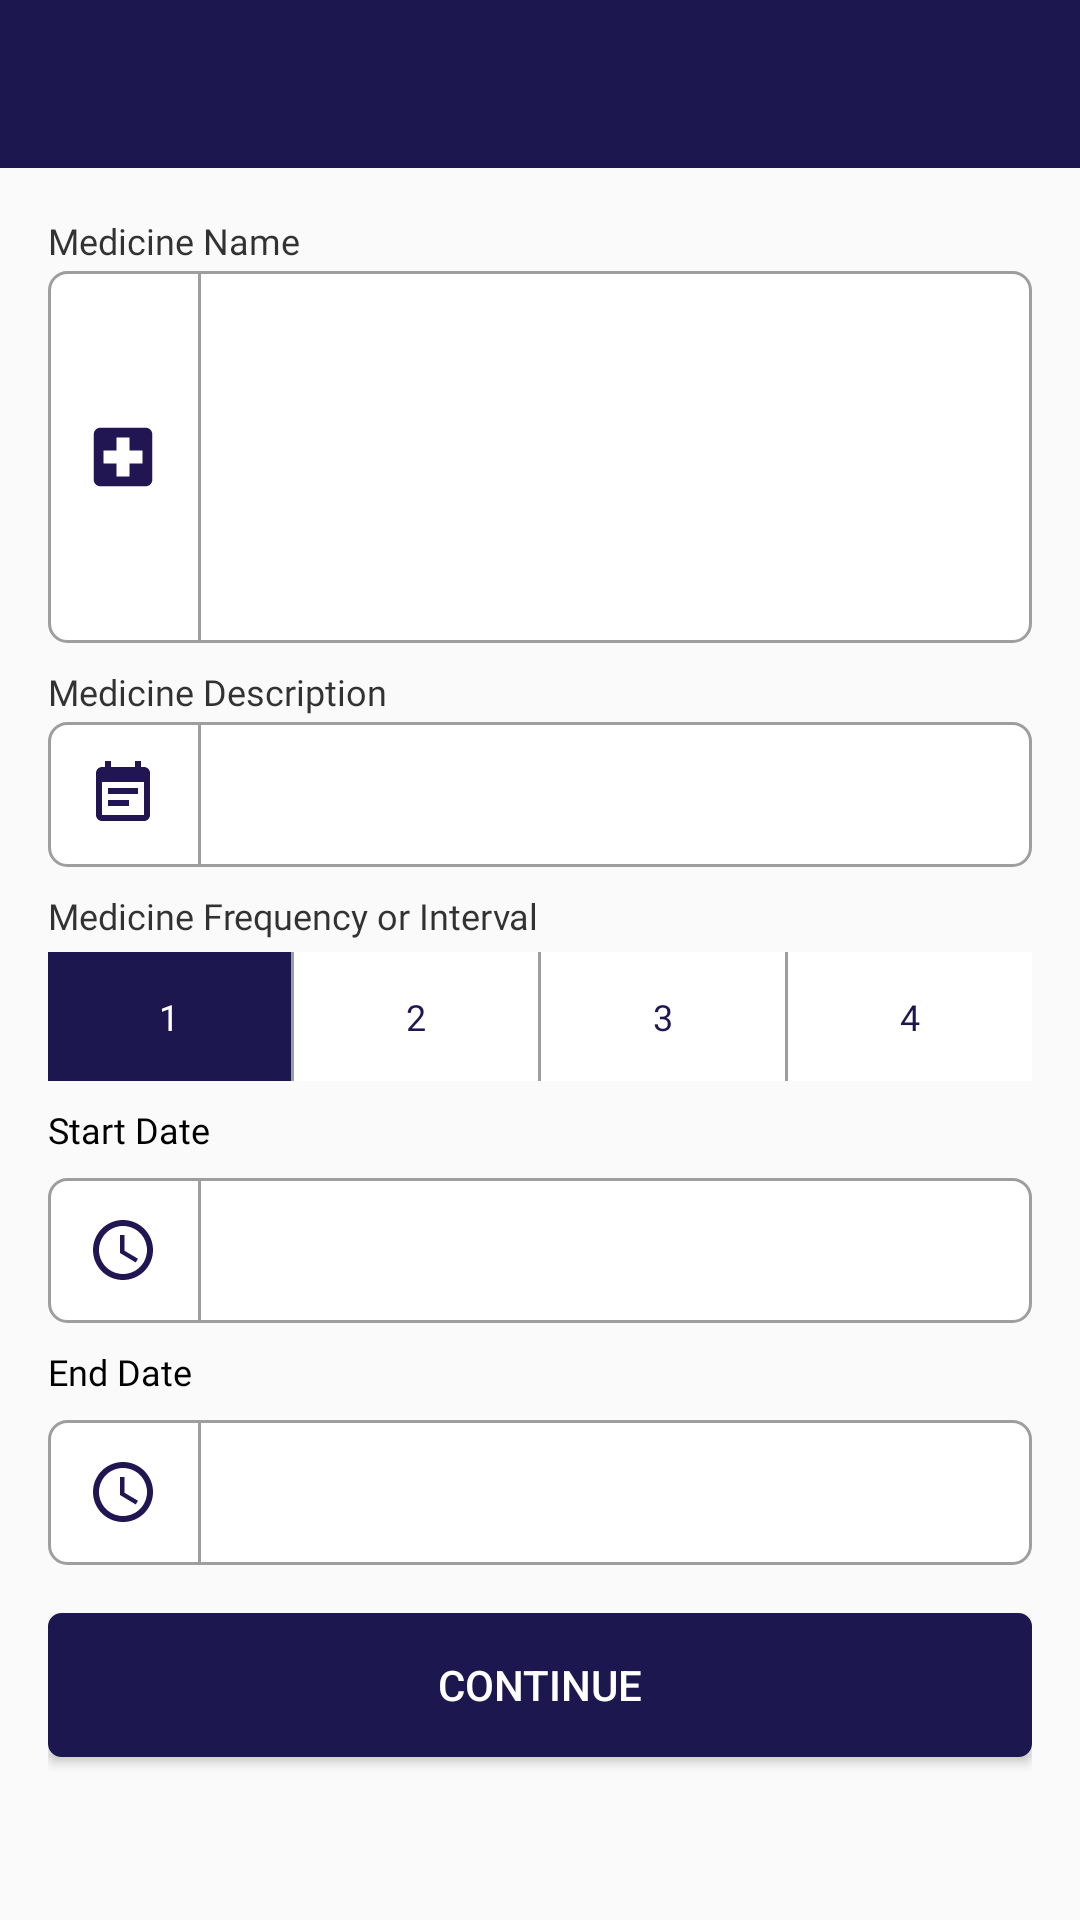

Icon click points for this 1080x1920 phone screenshot, format (x,y):
add description: (123,791)
add medicine: (123,457)
add time: (123,1250), (123,1492)
